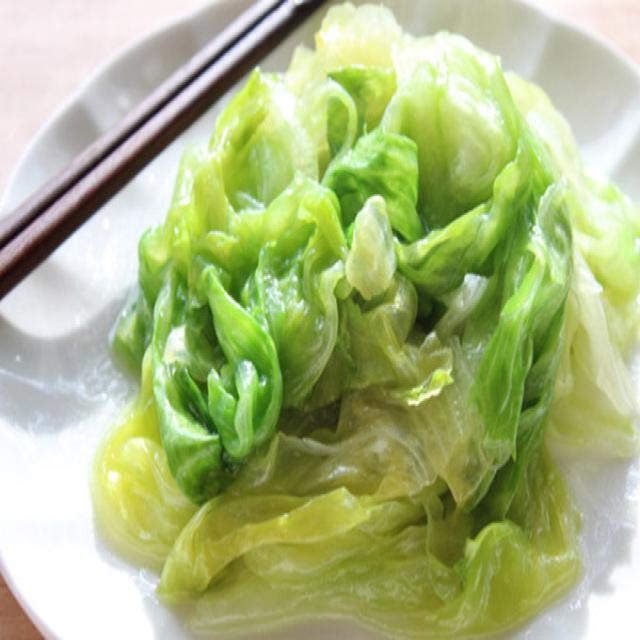bap cai luoc: (92, 6, 639, 638)
